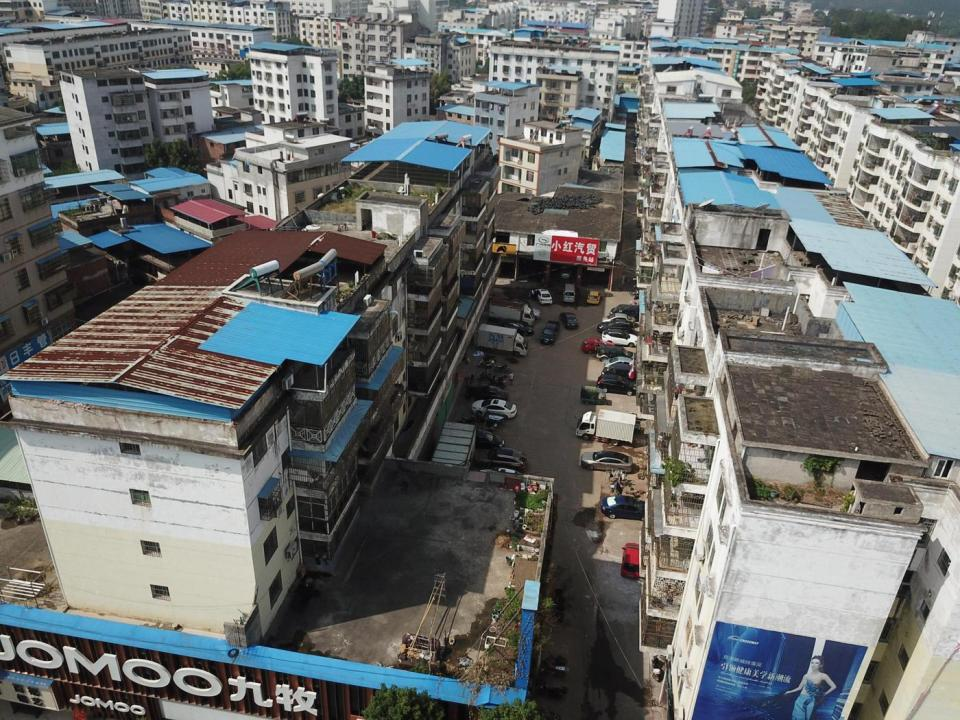car: (601, 495, 650, 521), (580, 450, 633, 472), (475, 447, 528, 469), (597, 374, 638, 396), (472, 398, 518, 417), (477, 468, 523, 487), (622, 542, 642, 578), (601, 328, 638, 347), (596, 344, 635, 362), (467, 429, 504, 447), (466, 386, 509, 401), (600, 364, 634, 380), (582, 338, 614, 354), (540, 320, 560, 345), (597, 319, 633, 332), (611, 304, 641, 317), (601, 312, 636, 323), (604, 356, 632, 367), (560, 312, 578, 329), (535, 288, 552, 304), (520, 307, 541, 319), (587, 289, 601, 304)
truck: (574, 409, 636, 446), (478, 323, 529, 356), (489, 299, 534, 325)
van: (563, 284, 575, 302)
